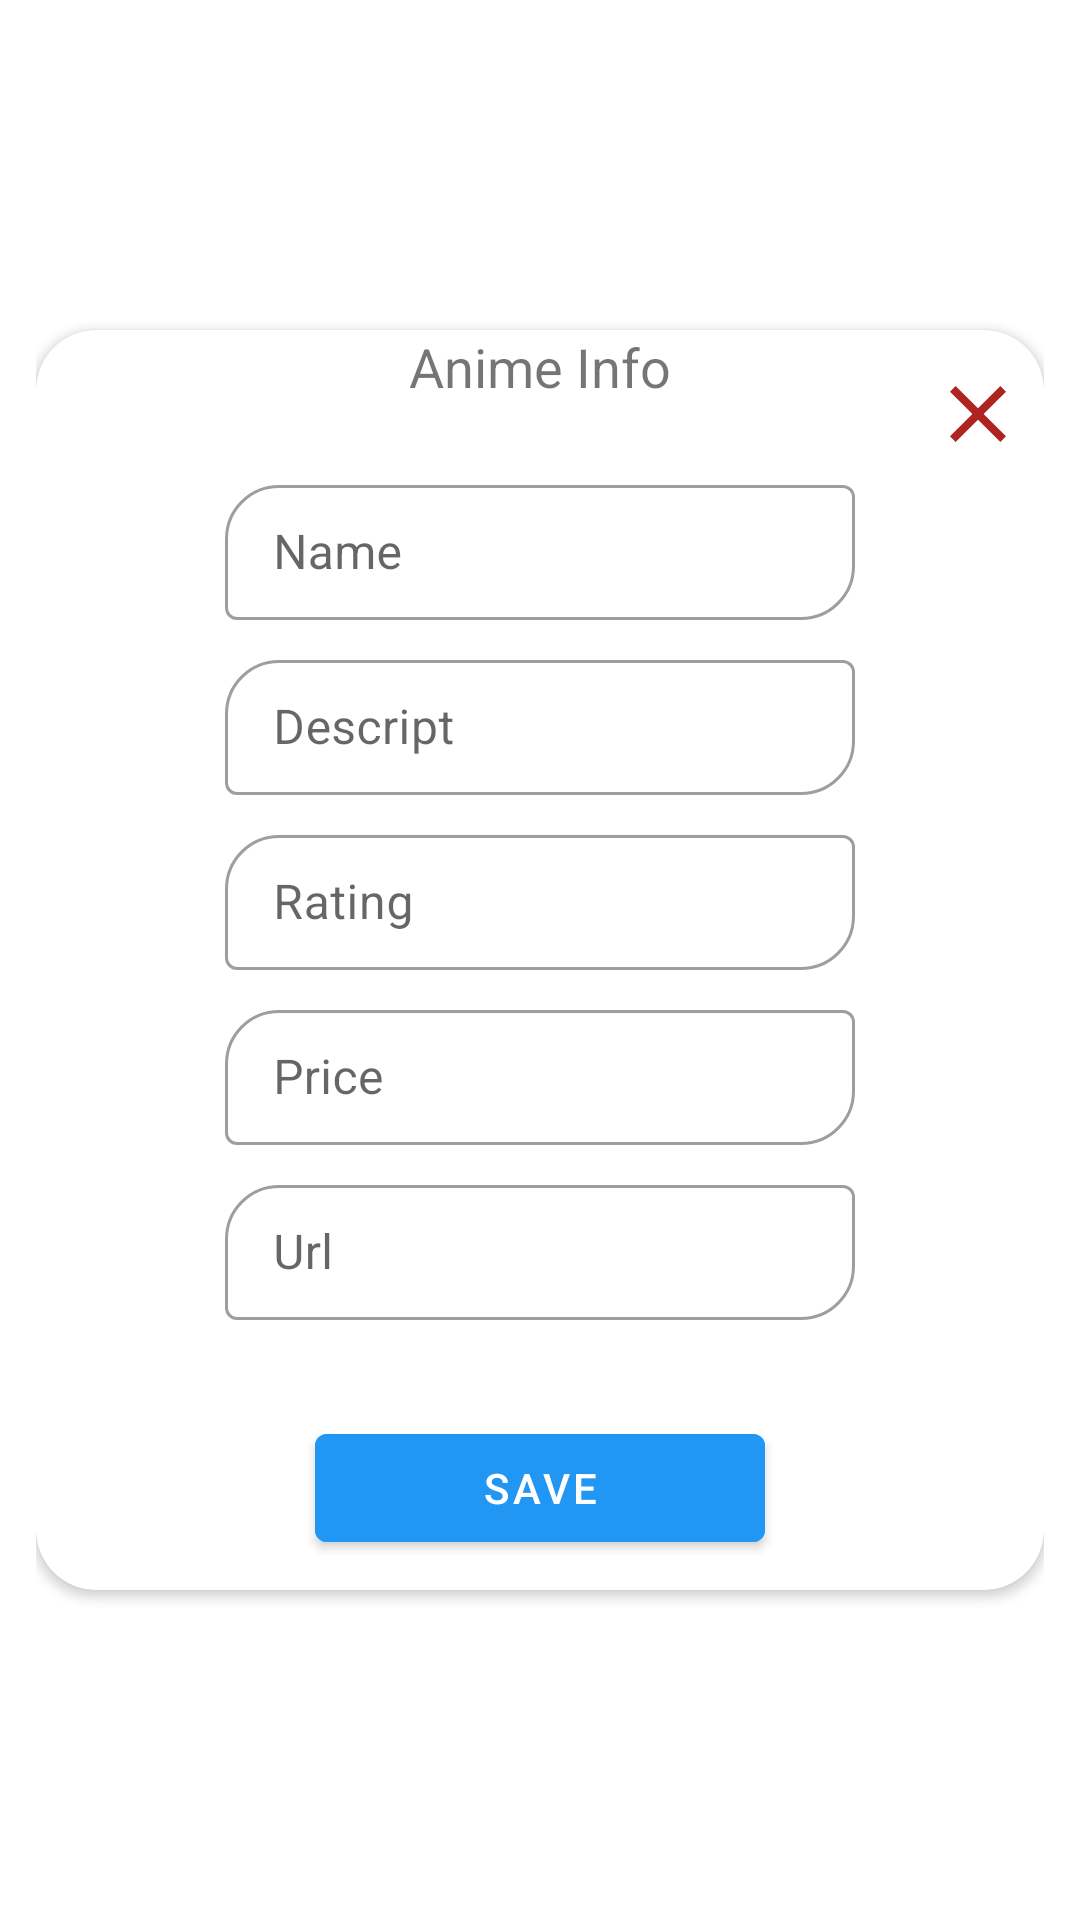

Icon click points for this 1080px x 1920px phone screenshot, format [x,y]:
close: [978,414]
